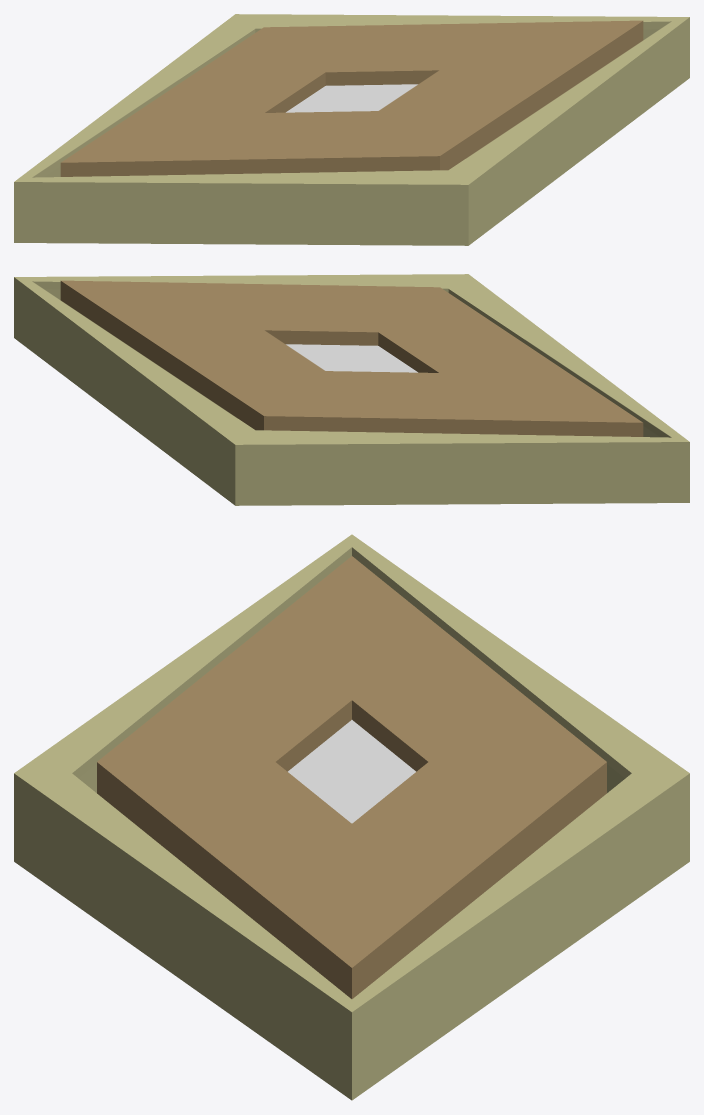
File: ChargePlatform.fbx
3 renders of one model, top to bottom at view 1: azimuth 30°, elevation 25°; view 2: azimuth 150°, elevation 25°; view 3: azimuth 270°, elevation 25°, orthographic. The views are drawn at different scales.
Visible parts, largest first — view 1: pCube1; view 2: pCube1; view 3: pCube1.
Part boxes in pixels (<box>): pCube1: <box>14,14,689,245</box>; pCube1: <box>14,274,689,505</box>; pCube1: <box>14,534,689,1100</box>.
Size of the model in its own units: 1124 by 122 by 672.
